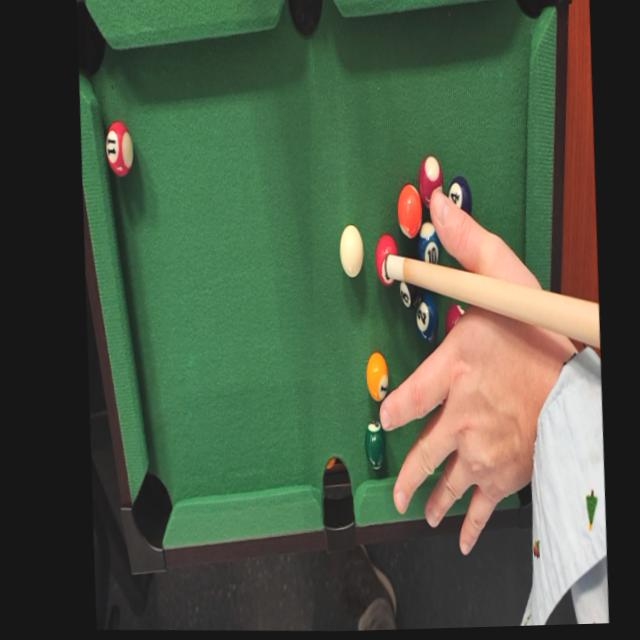cue ball: (334, 222, 367, 296)
other: (392, 182, 431, 247), (414, 144, 447, 212), (103, 117, 138, 179), (444, 170, 478, 232), (413, 215, 445, 273), (360, 350, 392, 408), (360, 413, 388, 475), (413, 293, 440, 345)
